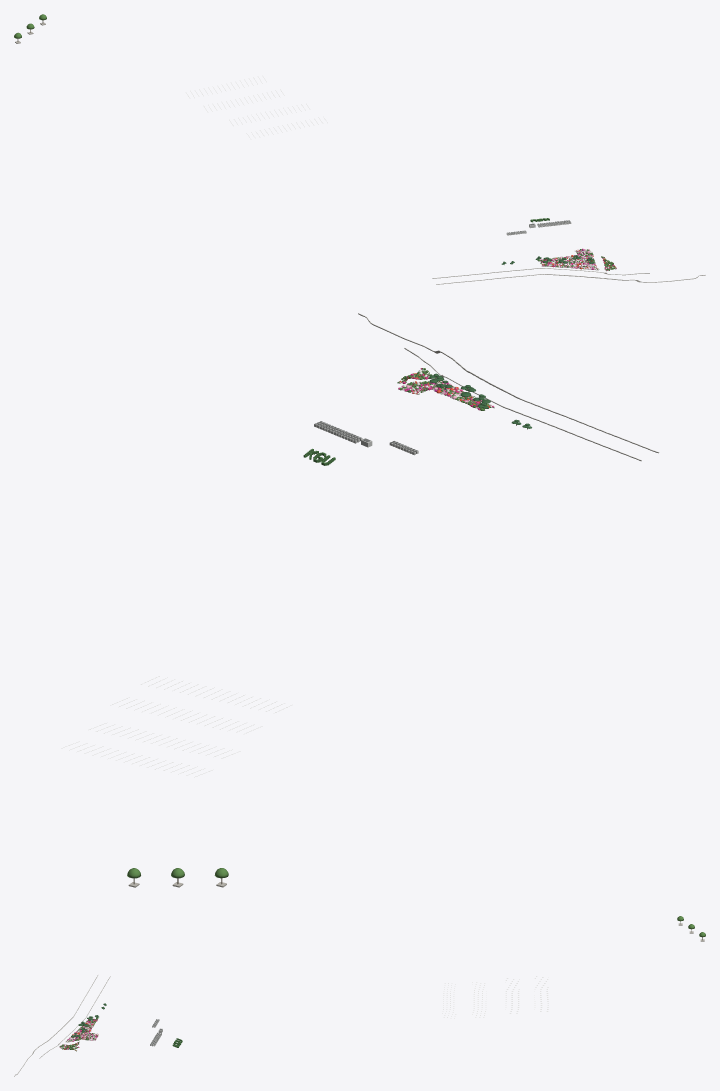
3 views of the same model, one above another, from view 1: azimuth 30°, elevation 25°; view 2: azimuth 150°, elevation 25°; view 3: azimuth 270°, elevation 25° (orthographic). The views are drawn at different scales.
Parts seen in each view (by area): view 1: library-garden__kerb; view 2: library-garden__kerb, library-garden__parking-line; view 3: library-garden__kerb.
Boxes of the visible parts, x1,y1,x2,y2 form: library-garden__kerb: (432,265,705,284); library-garden__kerb: (358,313,659,461); library-garden__parking-line: (61,676,291,777); library-garden__kerb: (14,975,110,1076).
Bounding box in the file's own units: 196 × 23.52 × 439.
